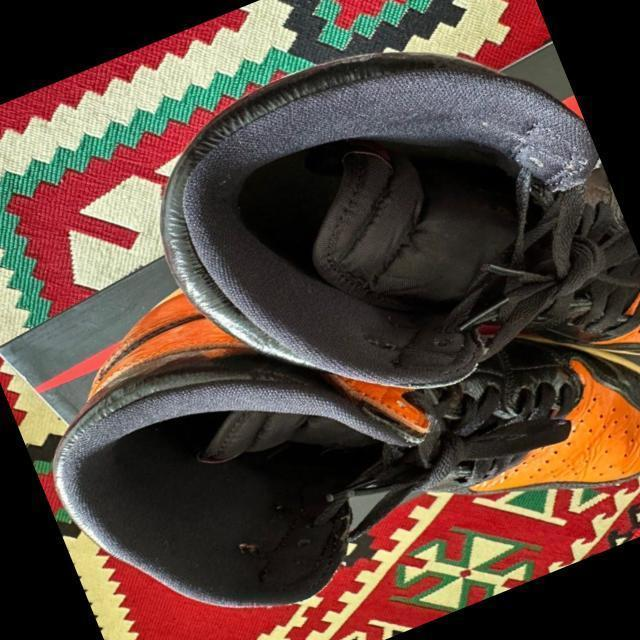nike original jordan 1: (2, 127, 640, 640)
